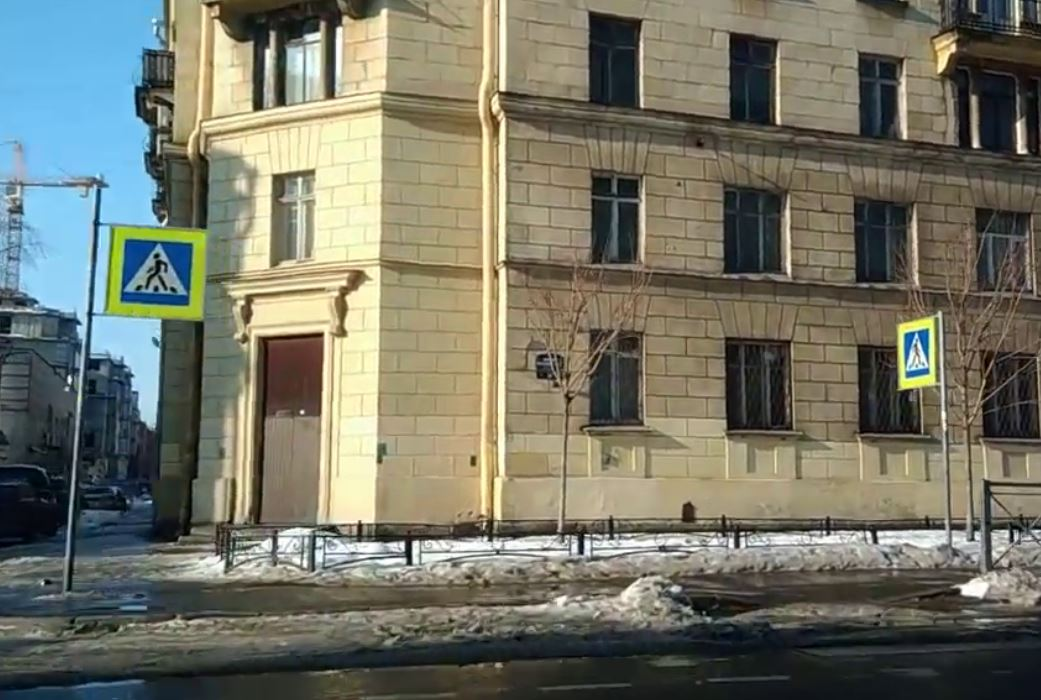Yaya Gecidi: (124, 238, 191, 304), (895, 333, 936, 373)
